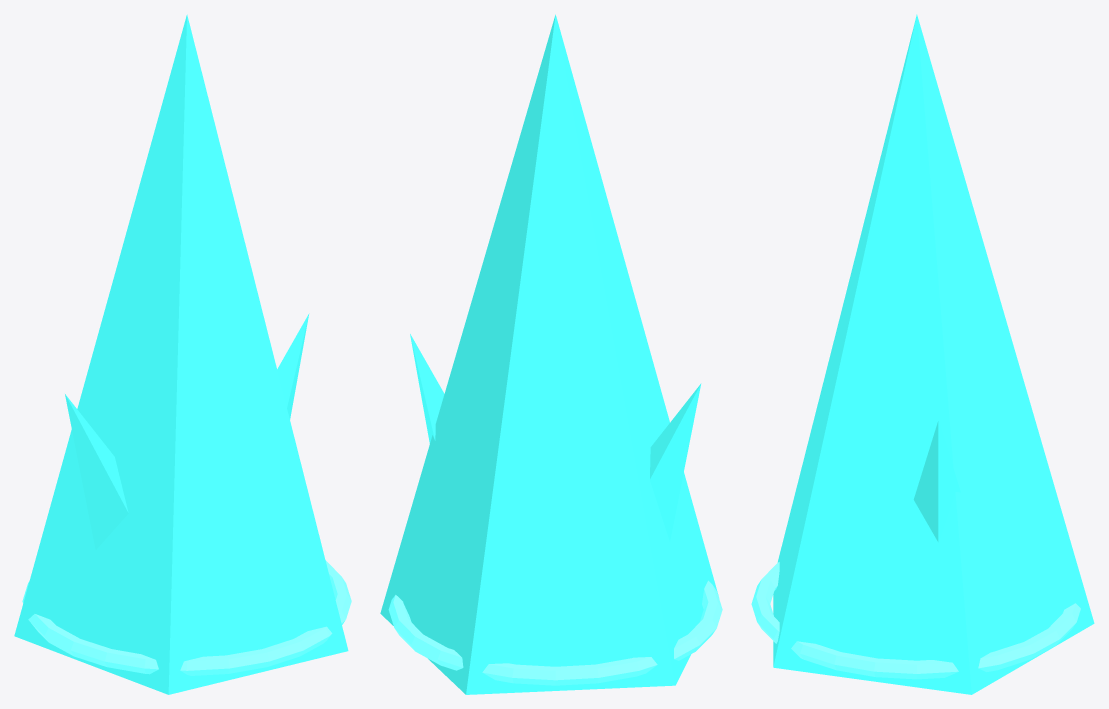
Rendered from spire.glb.
The picture shows the model from 3 angles, left to right: view 1: azimuth 30°, elevation 25°; view 2: azimuth 150°, elevation 25°; view 3: azimuth 270°, elevation 25°; orthographic projection.
Parts seen in each view (by area): view 1: SpireCrystal, SpireRing, SpireShard-1, SpireShard1; view 2: SpireCrystal, SpireRing, SpireShard-1, SpireShard1; view 3: SpireCrystal, SpireRing, SpireShard1.
Boxes of the visible parts, left/top/right/bottom form: SpireCrystal: left=14, top=14, right=348, bottom=694; SpireRing: left=22, top=560, right=351, bottom=675; SpireShard-1: left=65, top=394, right=128, bottom=549; SpireShard1: left=277, top=313, right=309, bottom=419; SpireCrystal: left=380, top=14, right=718, bottom=694; SpireRing: left=388, top=580, right=722, bottom=685; SpireShard-1: left=650, top=383, right=701, bottom=541; SpireShard1: left=410, top=334, right=444, bottom=443; SpireCrystal: left=773, top=14, right=1094, bottom=694; SpireRing: left=751, top=562, right=1080, bottom=679; SpireShard1: left=913, top=420, right=960, bottom=542.
Bounding box in the file's own units: 1.26 × 2.6 × 1.28.
